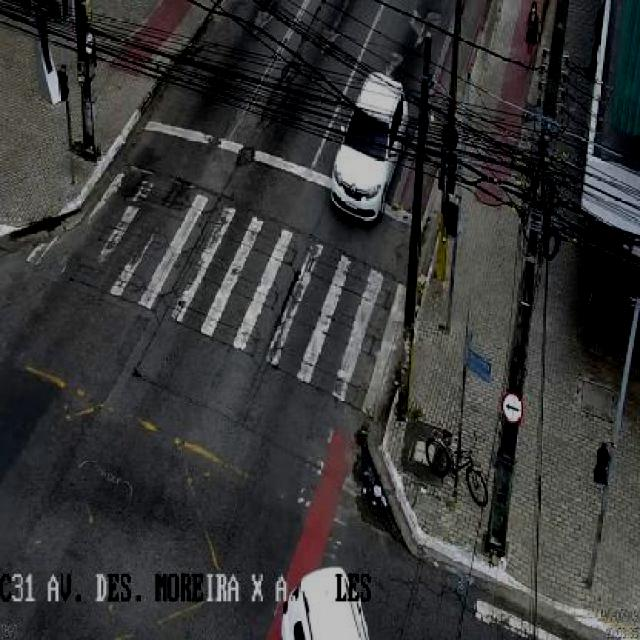bicycle: (424, 428, 490, 506)
car: (329, 67, 408, 221)
motorbike: (525, 3, 541, 68)
